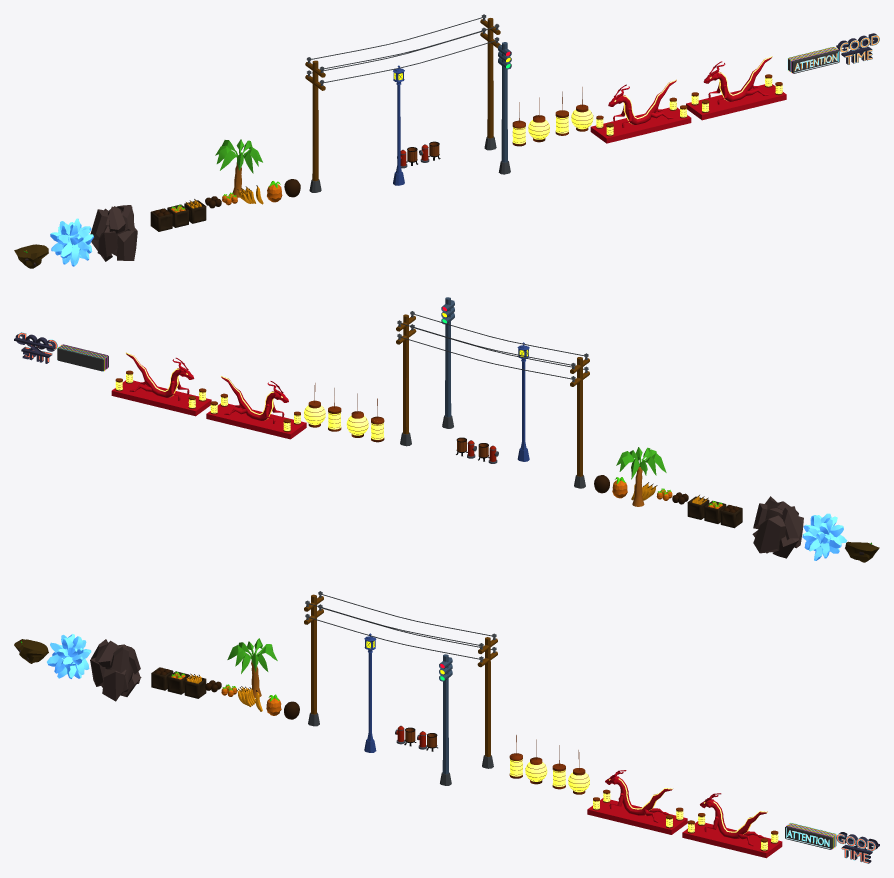
Rendered from city_objeler_2.fbx.
3 renders of one model, top to bottom at view 1: azimuth 30°, elevation 25°; view 2: azimuth 150°, elevation 25°; view 3: azimuth 330°, elevation 25°, orthographic.
Visible parts, largest first — view 1: Cylinder.001, Cylinder.005, Cube.004, Cylinder.003, Sphere.009, Circle.019, Cylinder.006, Text.002, Cube.002, Cylinder.002, Cube.005; view 2: Cylinder.001, Cylinder.005, Cube.004, Cylinder.003, Sphere.009, Circle.019, Cylinder.006, Cube.002, Text.002, Cylinder.002; view 3: Cylinder.001, Cylinder.005, Cube.004, Cylinder.003, Sphere.009, Circle.019, Cylinder.006, Text.002, Cube.002, Cylinder.002, Cube.005.
Boxes of the visible parts, x1,y1,x2,y2 form: Cylinder.001: (305,14,500,192); Cylinder.005: (590,79,691,143); Cube.004: (90,205,137,261); Cylinder.003: (686,74,786,120); Sphere.009: (50,218,93,266); Circle.019: (215,139,262,197); Cylinder.006: (498,42,511,174); Text.002: (836,33,879,64); Cube.002: (787,46,839,73); Cylinder.002: (393,65,404,185); Cube.005: (14,244,48,268); Cylinder.001: (396,311,589,488); Cylinder.005: (206,376,306,439); Cube.004: (752,496,803,558); Cylinder.003: (111,370,211,416); Sphere.009: (802,513,847,560); Circle.019: (616,447,666,506); Cylinder.006: (441,297,454,428); Cube.002: (57,344,108,371); Text.002: (14,332,57,363); Cylinder.002: (517,342,529,461); Cylinder.001: (304,591,497,768); Cylinder.005: (587,770,687,834); Cube.004: (90,639,141,701); Cylinder.003: (682,813,782,858); Sphere.009: (47,634,91,678); Circle.019: (227,638,277,697); Cylinder.006: (439,654,452,785); Text.002: (836,832,879,863); Cube.002: (785,822,836,849); Cylinder.002: (364,633,376,752); Cube.005: (14,639,48,663).
Bounding box in the file's own units: 30593 × 5077 × 3385.
